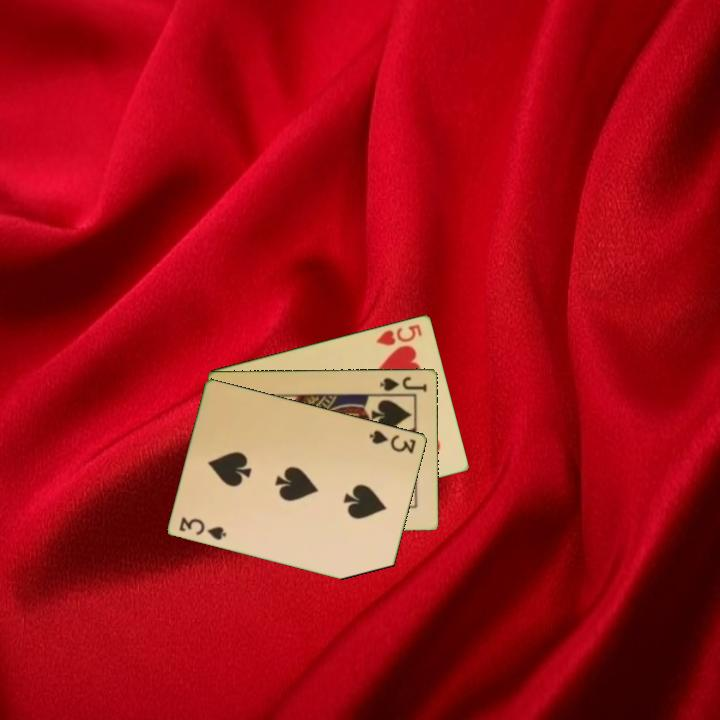3s: (176, 513, 230, 543), (366, 426, 419, 456)
5h: (373, 320, 425, 348)
Js: (377, 372, 430, 395)
